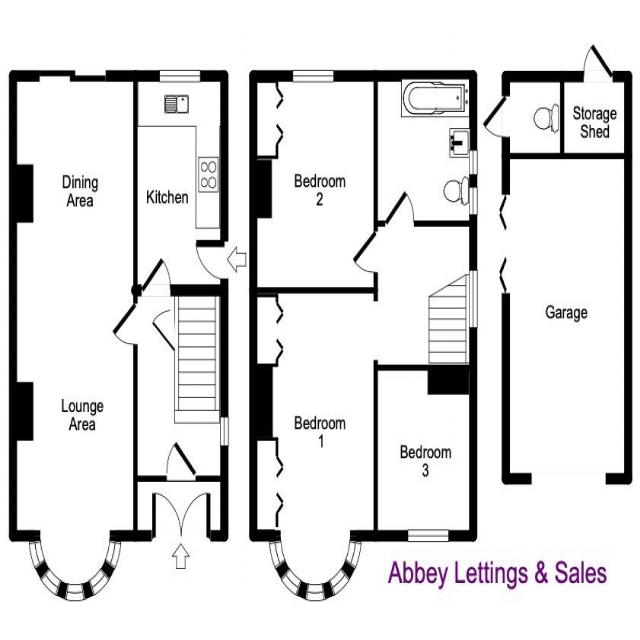DOOR: (192, 237, 229, 284), (165, 436, 202, 481), (381, 185, 419, 228), (347, 227, 379, 278), (137, 253, 174, 297), (109, 297, 138, 349)
DOUBLE DOOR: (152, 488, 213, 541)
ROOM: (250, 69, 378, 293), (133, 71, 229, 295), (373, 360, 478, 543)
SLIDING DOOR: (38, 67, 109, 88)
WINDOW: (289, 63, 336, 86), (157, 67, 203, 86), (467, 266, 480, 332), (88, 564, 112, 599), (327, 565, 352, 598), (279, 566, 304, 598), (38, 566, 62, 598), (407, 527, 451, 544), (267, 538, 288, 571), (28, 538, 47, 572), (344, 537, 362, 570), (304, 579, 327, 604), (103, 539, 121, 570), (218, 413, 231, 449), (64, 581, 86, 602), (467, 183, 479, 217), (467, 147, 479, 177)
